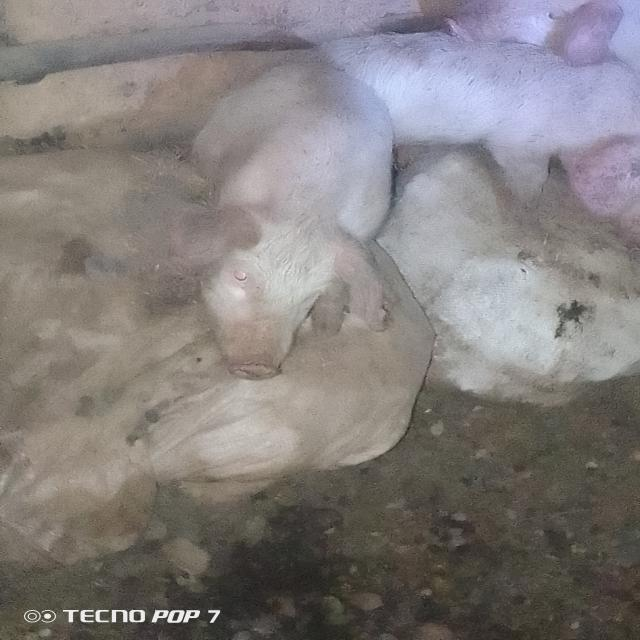pig: (61, 30, 482, 415)
